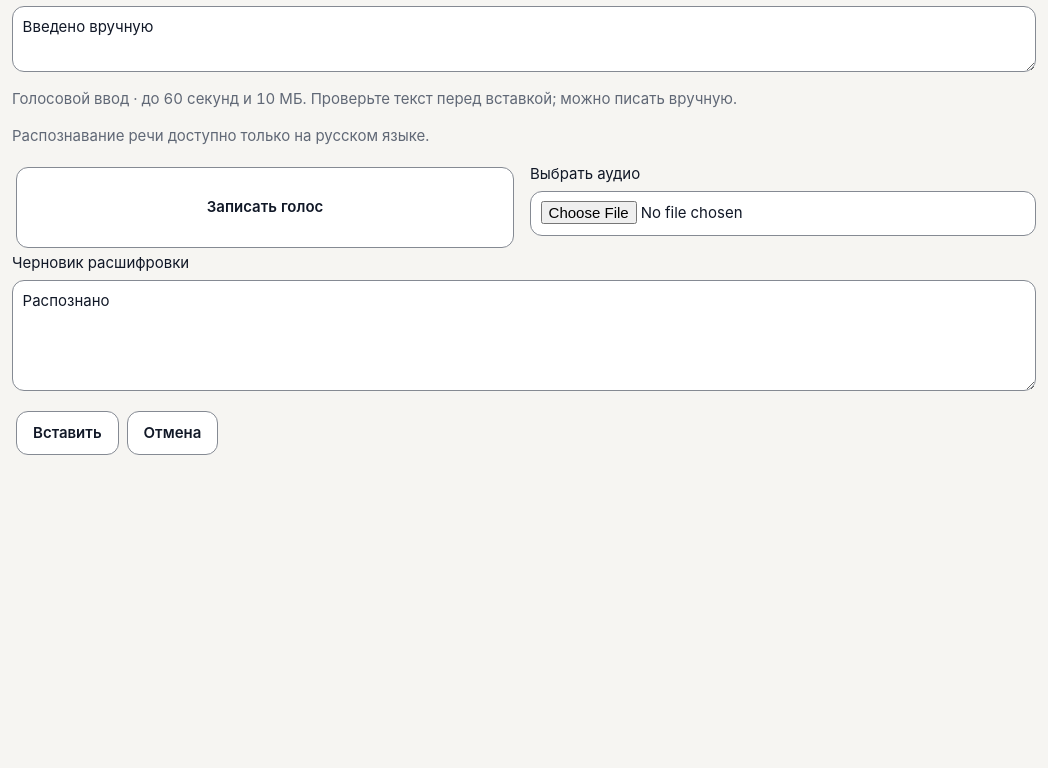
Test: refuses insertion exceeding target limit without truncating text
Earlier steps of the test are not shown.
Check: the file field labelled "Выбрать аудио" is shown, box [530,191,1036,236]
Click the button "Вставить".
click(67, 433)  # box [16,411,119,455]
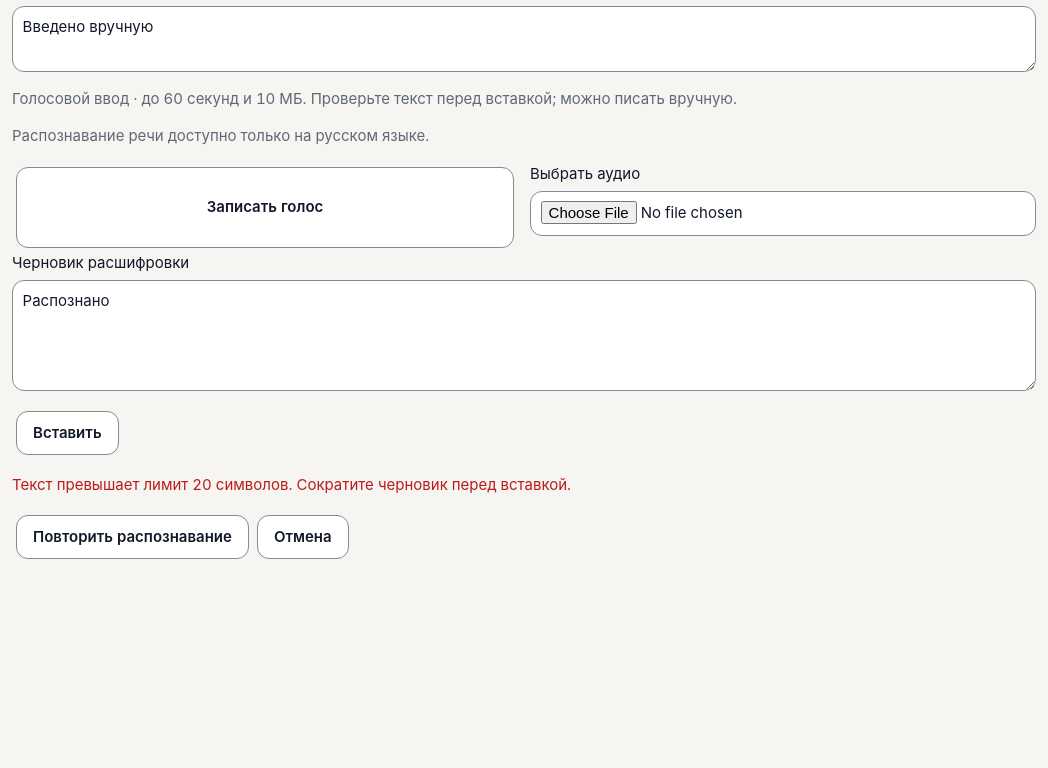
Check: the message "Текст превышает лимит 20 символов. Сократите черновик перед вставкой." is shown, box [12,475,571,494]
